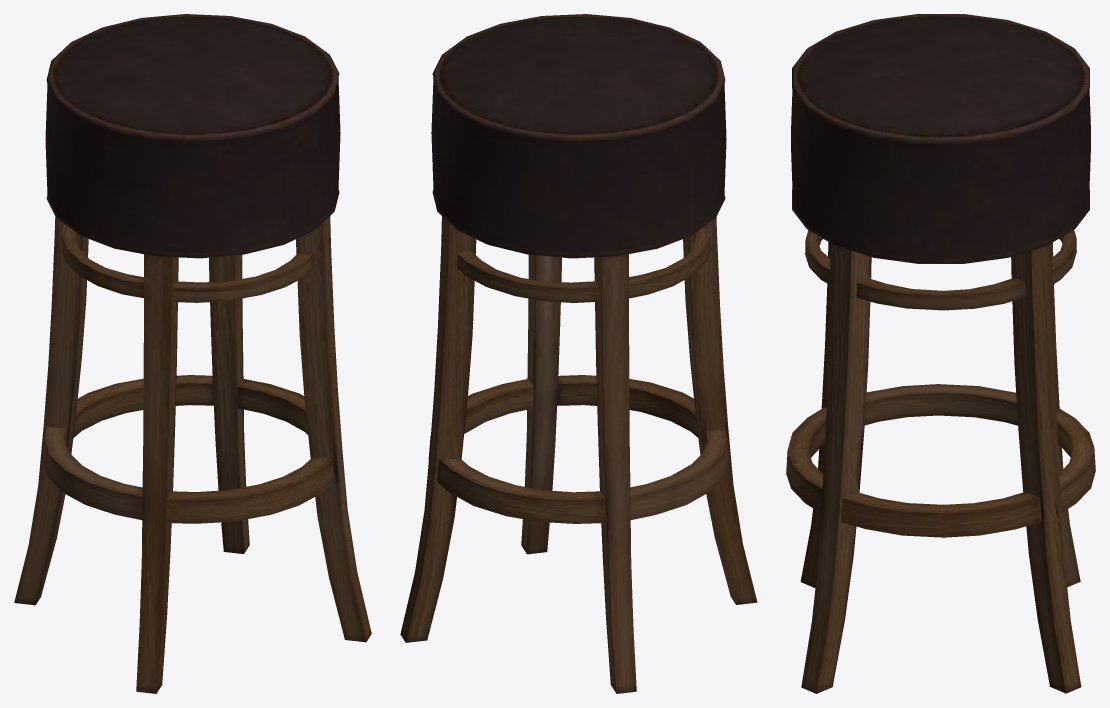
The model's file is tabouret-bar.glb.
The picture shows the model from 3 angles, left to right: view 1: azimuth 30°, elevation 25°; view 2: azimuth 150°, elevation 25°; view 3: azimuth 270°, elevation 25°; orthographic projection. The views are drawn at different scales.
Visible parts, largest first — view 1: re_ho_02; view 2: re_ho_02; view 3: re_ho_02.
Part boxes in pixels (x1,y1,x2,y2): re_ho_02: (14,14,371,693); re_ho_02: (400,14,757,693); re_ho_02: (786,14,1095,693).
Size of the model in its own units: 0.4024 by 0.8264 by 0.4024.
1 material, 1 textured.
